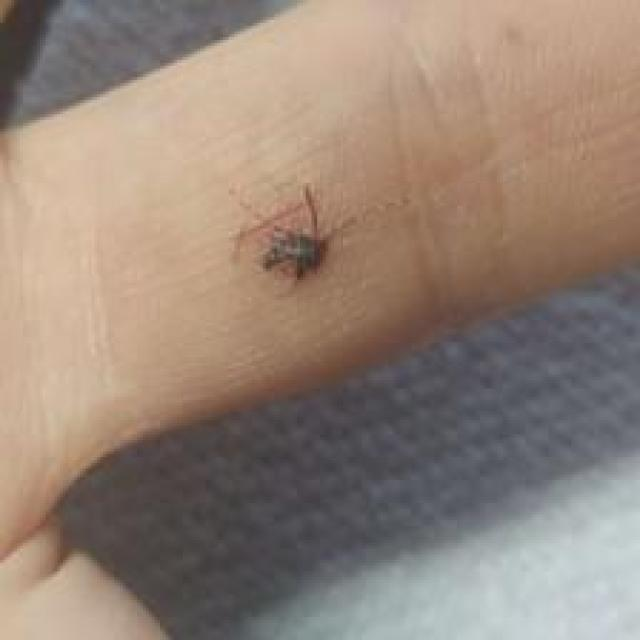Aedes albopictus: (257, 182, 349, 284)
